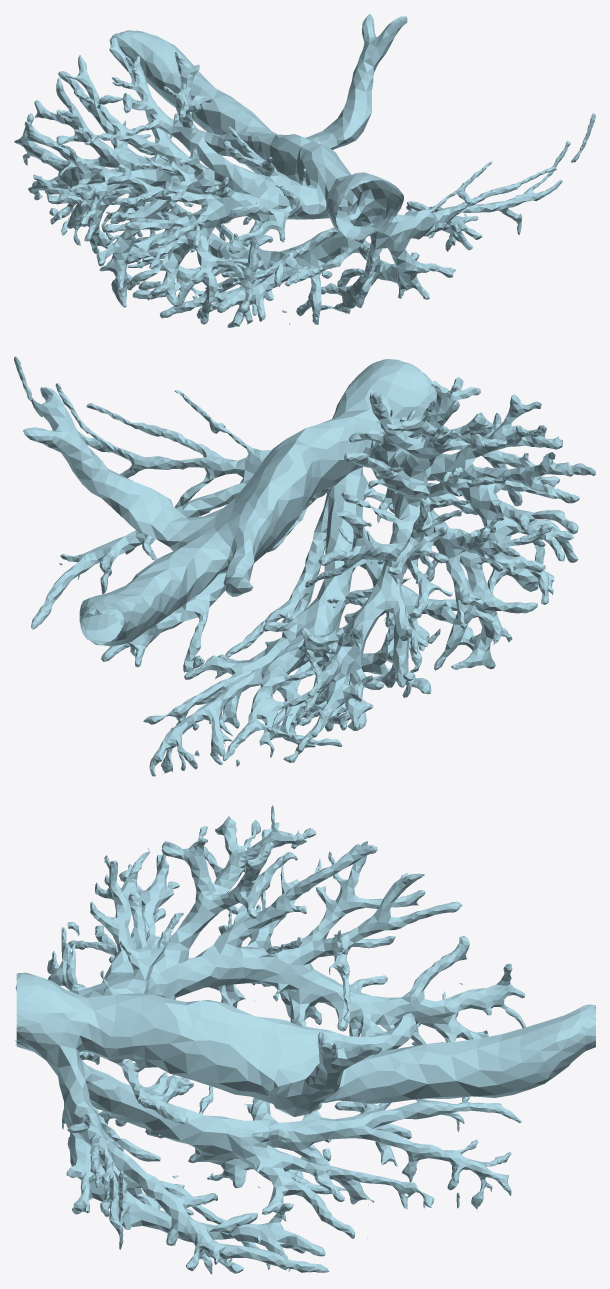
The model's file is venoussystem.obj.
3 renders of one model, top to bottom at view 1: azimuth 30°, elevation 25°; view 2: azimuth 150°, elevation 25°; view 3: azimuth 270°, elevation 25°, orthographic. The views are drawn at different scales.
Visible parts, largest first — view 1: grp1; view 2: grp1; view 3: grp1.
Part boxes in pixels (<box>): grp1: <box>14,14,595,327</box>; grp1: <box>14,356,595,776</box>; grp1: <box>15,805,595,1274</box>.
Bounding box in the file's own units: 222 × 124 × 196.
